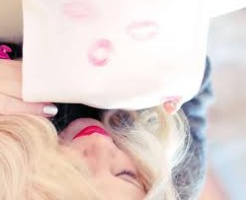lipstick: (83, 37, 117, 69), (124, 20, 161, 42), (62, 0, 94, 22)
